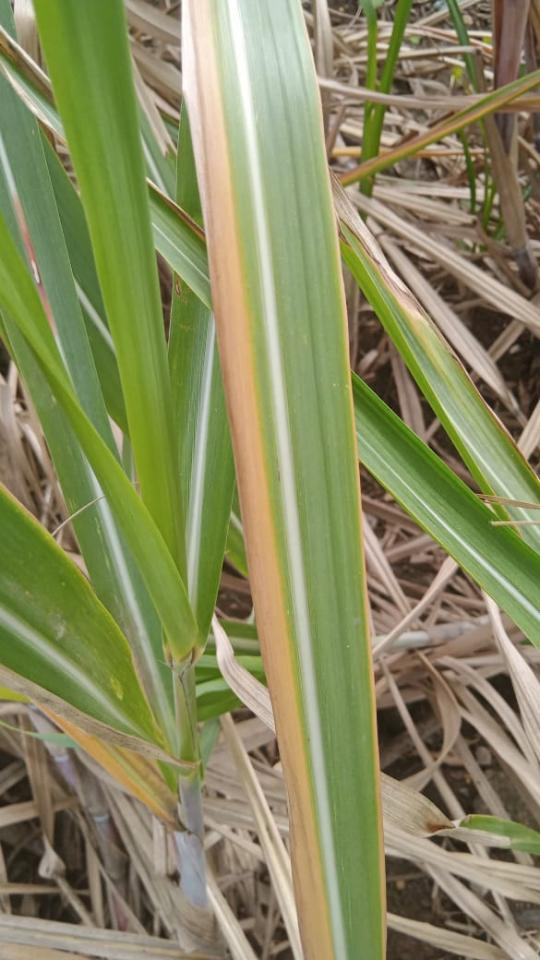Yellow: (182, 0, 336, 959), (316, 87, 387, 959)
